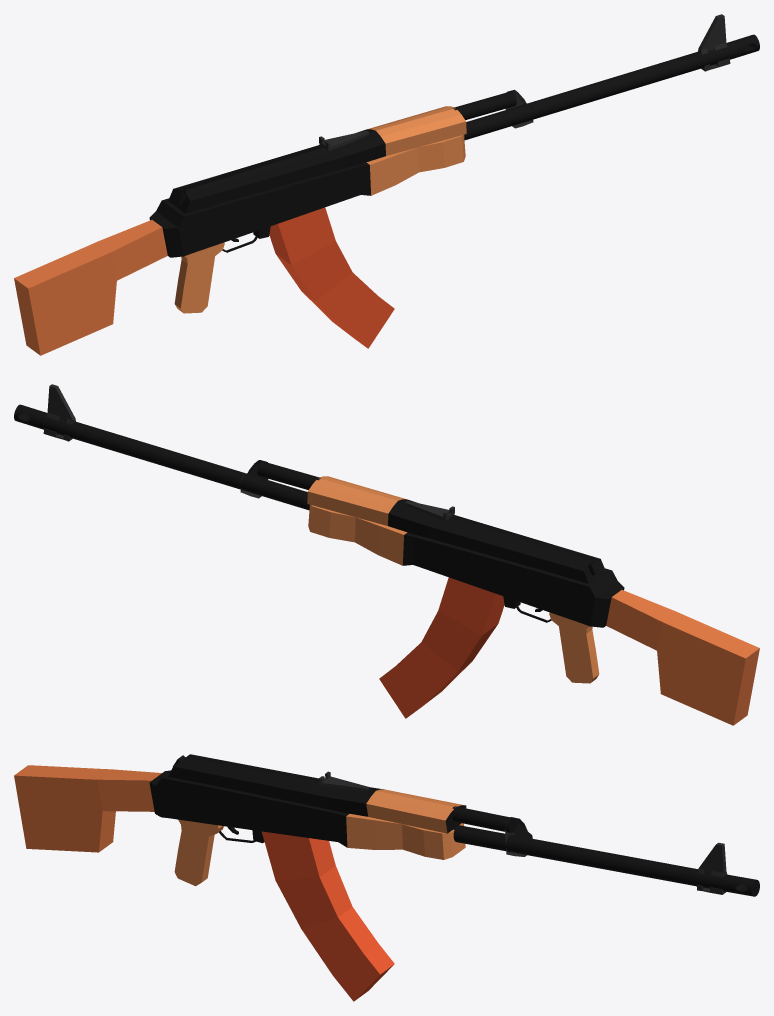
File: rpk.fbx
3 renders of one model, top to bottom at view 1: azimuth 30°, elevation 25°; view 2: azimuth 150°, elevation 25°; view 3: azimuth 330°, elevation 25°, orthographic.
Parts seen in each view (by area): view 1: Cube.012, Cube, Cube.001, Cube.002, Cylinder, Cube.009, Cube.010, Cube.011, Cylinder.001, Cube.006; view 2: Cube.012, Cube, Cube.001, Cube.002, Cylinder, Cube.009, Cube.010, Cube.011, Cylinder.001, Cube.006; view 3: Cube.001, Cube.012, Cube, Cube.002, Cylinder, Cube.009, Cube.010, Cube.011, Cylinder.001, Cube.006, Cube.004.
Part boxes in pixels (x1,y1,x2,y2): Cube.012: (14, 220, 167, 355); Cube: (149, 162, 371, 257); Cube.001: (269, 207, 394, 348); Cube.002: (168, 129, 385, 213); Cylinder: (464, 34, 759, 140); Cube.009: (366, 134, 465, 195); Cube.010: (366, 106, 466, 155); Cube.011: (174, 242, 224, 313); Cylinder.001: (452, 91, 516, 119); Cube.006: (698, 14, 730, 71); Cube.012: (606, 590, 759, 725); Cube: (402, 532, 624, 627); Cube.001: (379, 577, 504, 718); Cube.002: (388, 499, 605, 583); Cylinder: (14, 404, 309, 510); Cube.009: (308, 504, 407, 565); Cube.010: (307, 476, 407, 525); Cube.011: (549, 612, 599, 683); Cylinder.001: (257, 461, 321, 489); Cube.006: (43, 384, 75, 441); Cube.001: (261, 831, 394, 1001); Cube.012: (14, 765, 161, 852); Cube: (149, 770, 349, 847); Cube.002: (168, 754, 466, 833); Cylinder: (453, 825, 759, 896); Cube.009: (346, 814, 465, 859); Cube.010: (366, 789, 463, 833); Cube.011: (174, 819, 223, 886); Cylinder.001: (452, 806, 516, 833); Cube.006: (696, 842, 727, 894); Cube.004: (319, 771, 369, 790).
Bounding box in the file's own units: 479 × 149 × 26.78.
